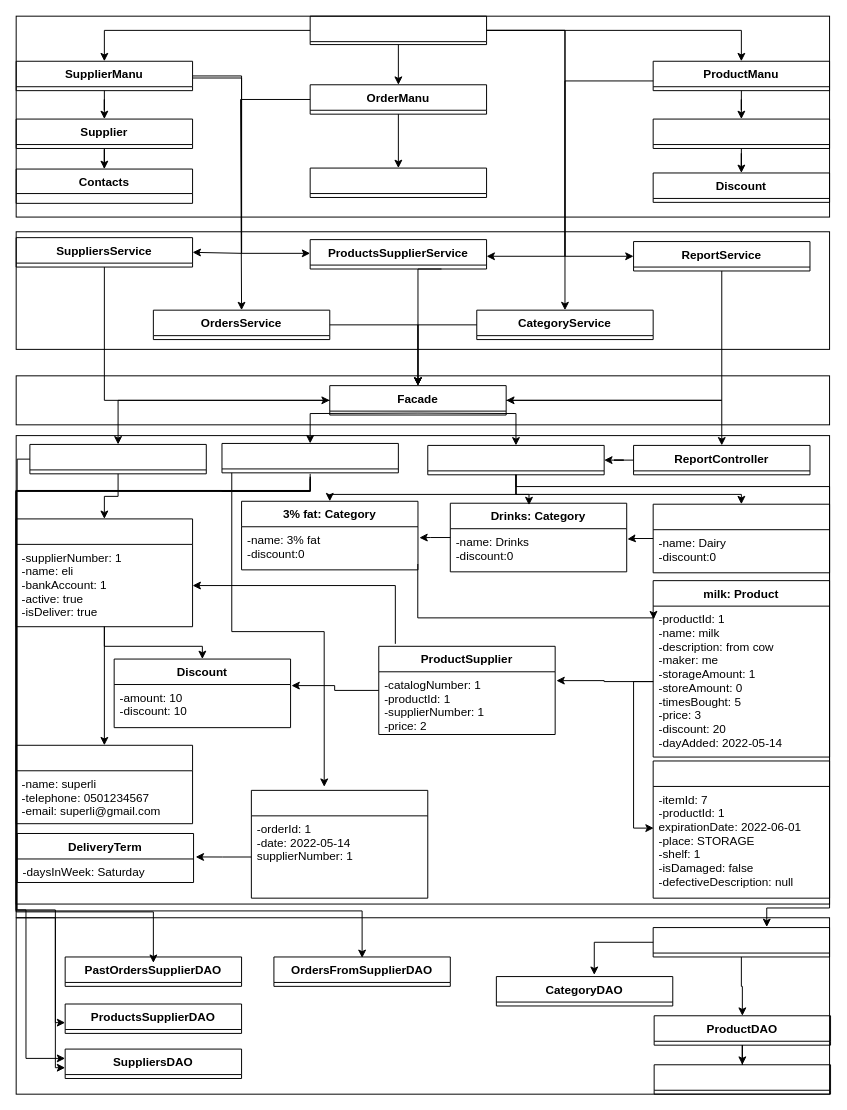
Image size: 847x1110. Some labels were removed from this diagram. The box of each missing label's shape, as (x1, y1, x2, y2) in pixels:
CategoryController: (427, 444, 604, 475)
CategoryToProductDAO: (652, 927, 830, 957)
Contact: (15, 744, 193, 824)
Dairy: Category: (652, 503, 830, 573)
eli: Supplier: (15, 518, 193, 627)
ItemDAO: (653, 1064, 831, 1094)
Manu: (309, 15, 487, 45)
milk: Item: (652, 760, 830, 898)
order: (309, 167, 487, 197)
OrderFromSupplier: (250, 789, 428, 898)
OrdersController: (221, 442, 398, 473)
Product: (652, 118, 830, 148)
SuppliersController: (29, 443, 206, 474)
